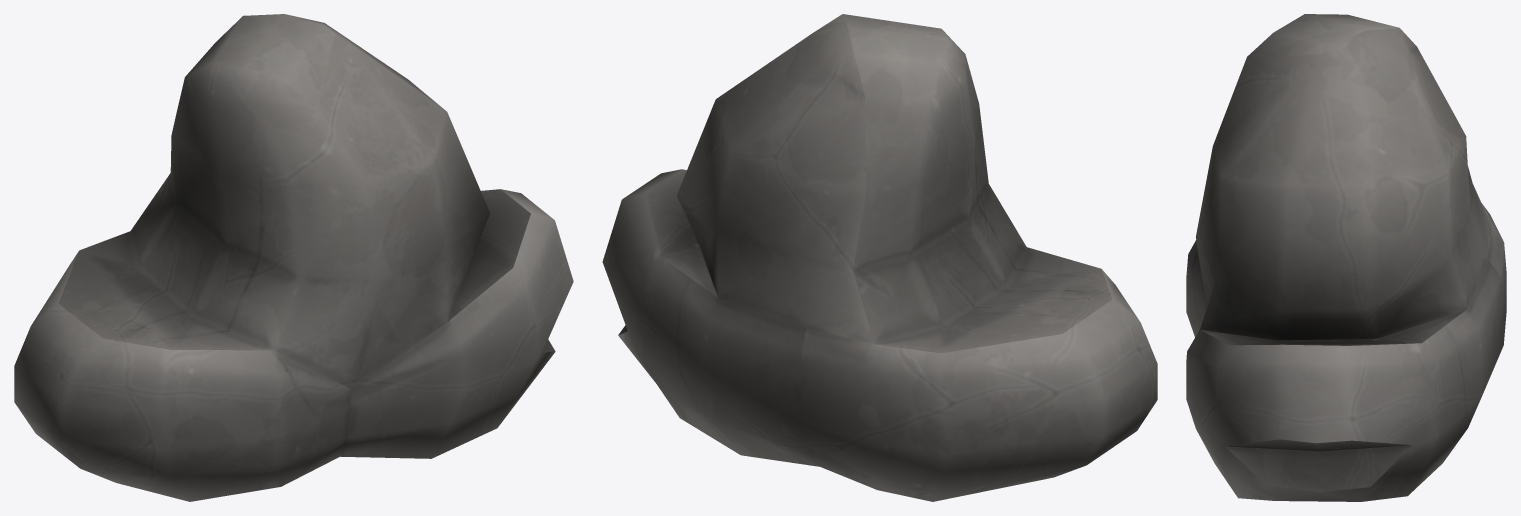
The model's file is Stones01_4.FBX.
3 renders of one model, left to right at view 1: azimuth 30°, elevation 25°; view 2: azimuth 150°, elevation 25°; view 3: azimuth 270°, elevation 25°, orthographic. The views are drawn at different scales.
Visible parts, largest first — view 1: Stones01_4; view 2: Stones01_4; view 3: Stones01_4.
Part boxes in pixels (box(x1,y1,x2,y2)): Stones01_4: box(14, 14, 573, 501); Stones01_4: box(602, 14, 1157, 501); Stones01_4: box(1186, 14, 1506, 501).
Size of what is drawn, in the model's own units: 2.61 by 1.97 by 1.43.
